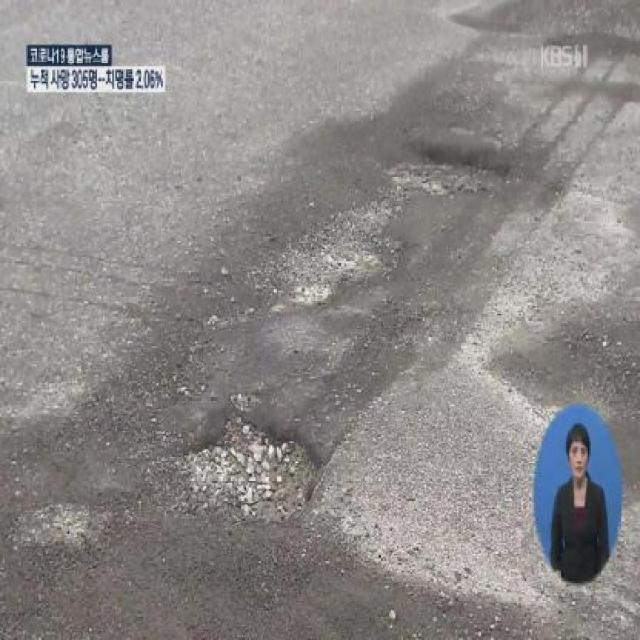Pothole: (147, 407, 330, 533), (387, 148, 511, 204)
